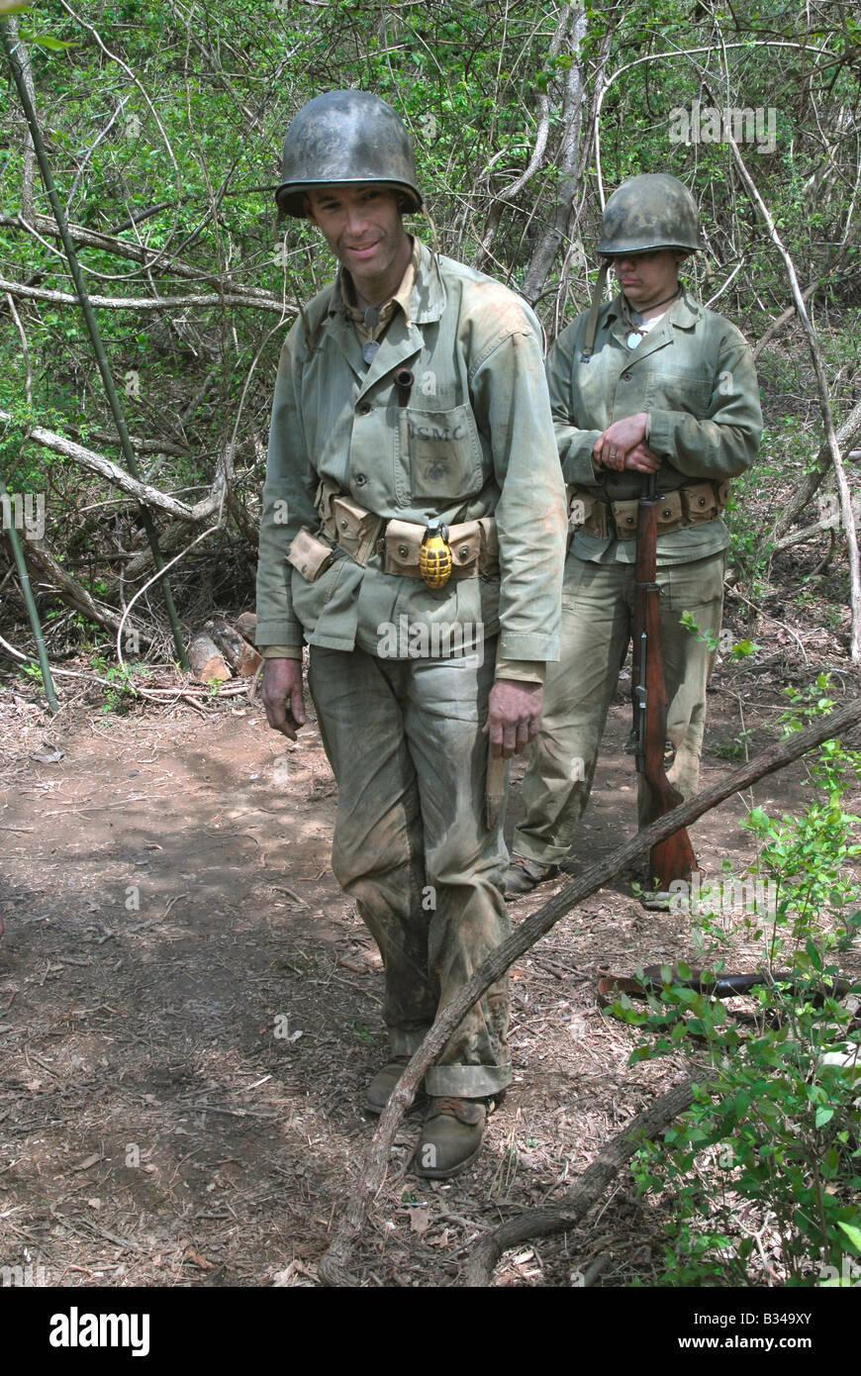Grenade: (416, 521, 455, 596)
Gun: (623, 451, 701, 896)
